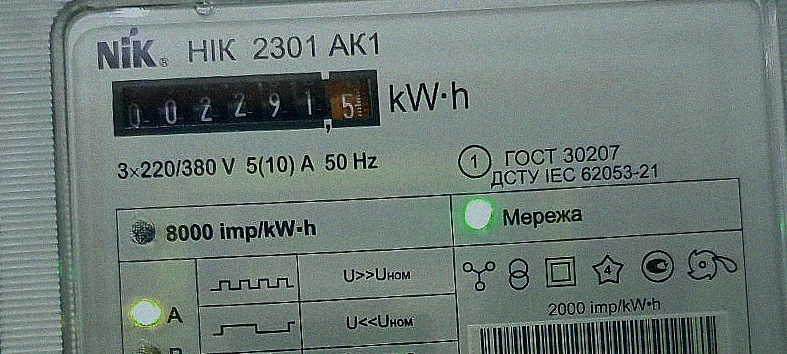0: (123, 98, 143, 128), (161, 95, 179, 125)
1: (300, 84, 316, 119)
2: (196, 93, 214, 123), (231, 88, 247, 118)
5: (338, 89, 356, 120)
9: (265, 88, 283, 119)
screen: (105, 56, 386, 151)
